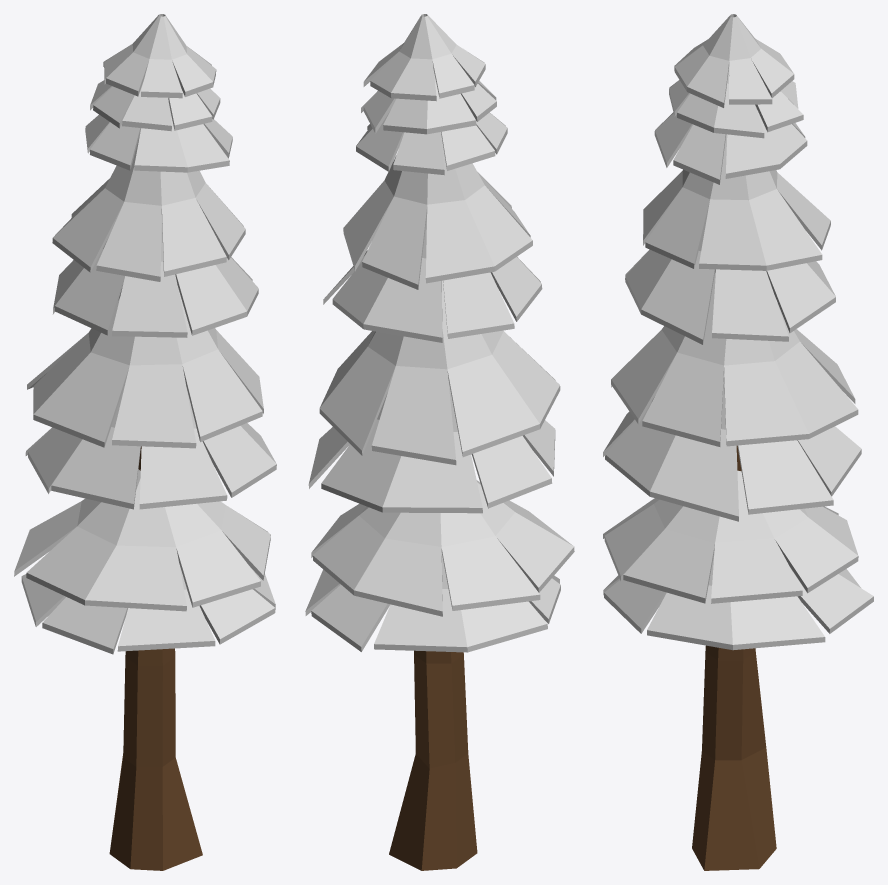
File: pine_tree_6.fbx
3 renders of one model, left to right at view 1: azimuth 30°, elevation 25°; view 2: azimuth 150°, elevation 25°; view 3: azimuth 270°, elevation 25°, orthographic.
Visible parts, largest first — view 1: Circle.001; view 2: Circle.001; view 3: Circle.001.
Boxes of the visible parts, x1,y1,x2,y2 form: Circle.001: [14, 14, 276, 870]; Circle.001: [305, 14, 574, 870]; Circle.001: [603, 14, 873, 870].
Bounding box in the file's own units: 210 × 718 × 209.
